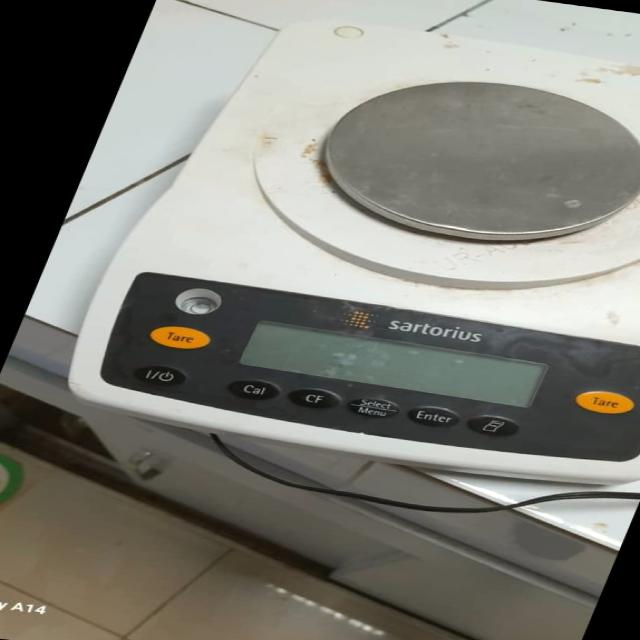Electronic balance: (37, 2, 640, 497)
